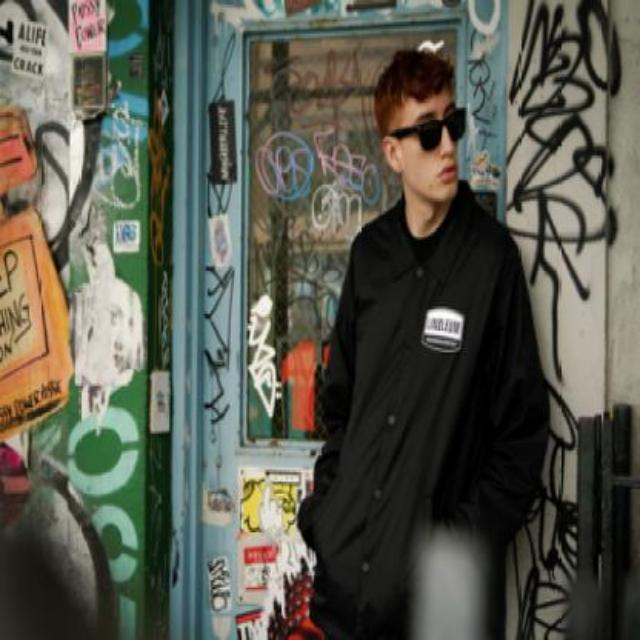sunglasses: (386, 104, 466, 150)
